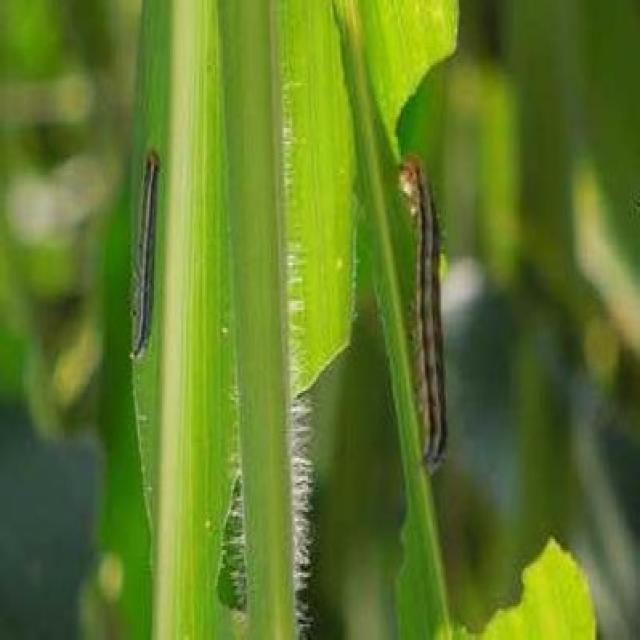army worm: (389, 155, 450, 476), (130, 135, 162, 366)
